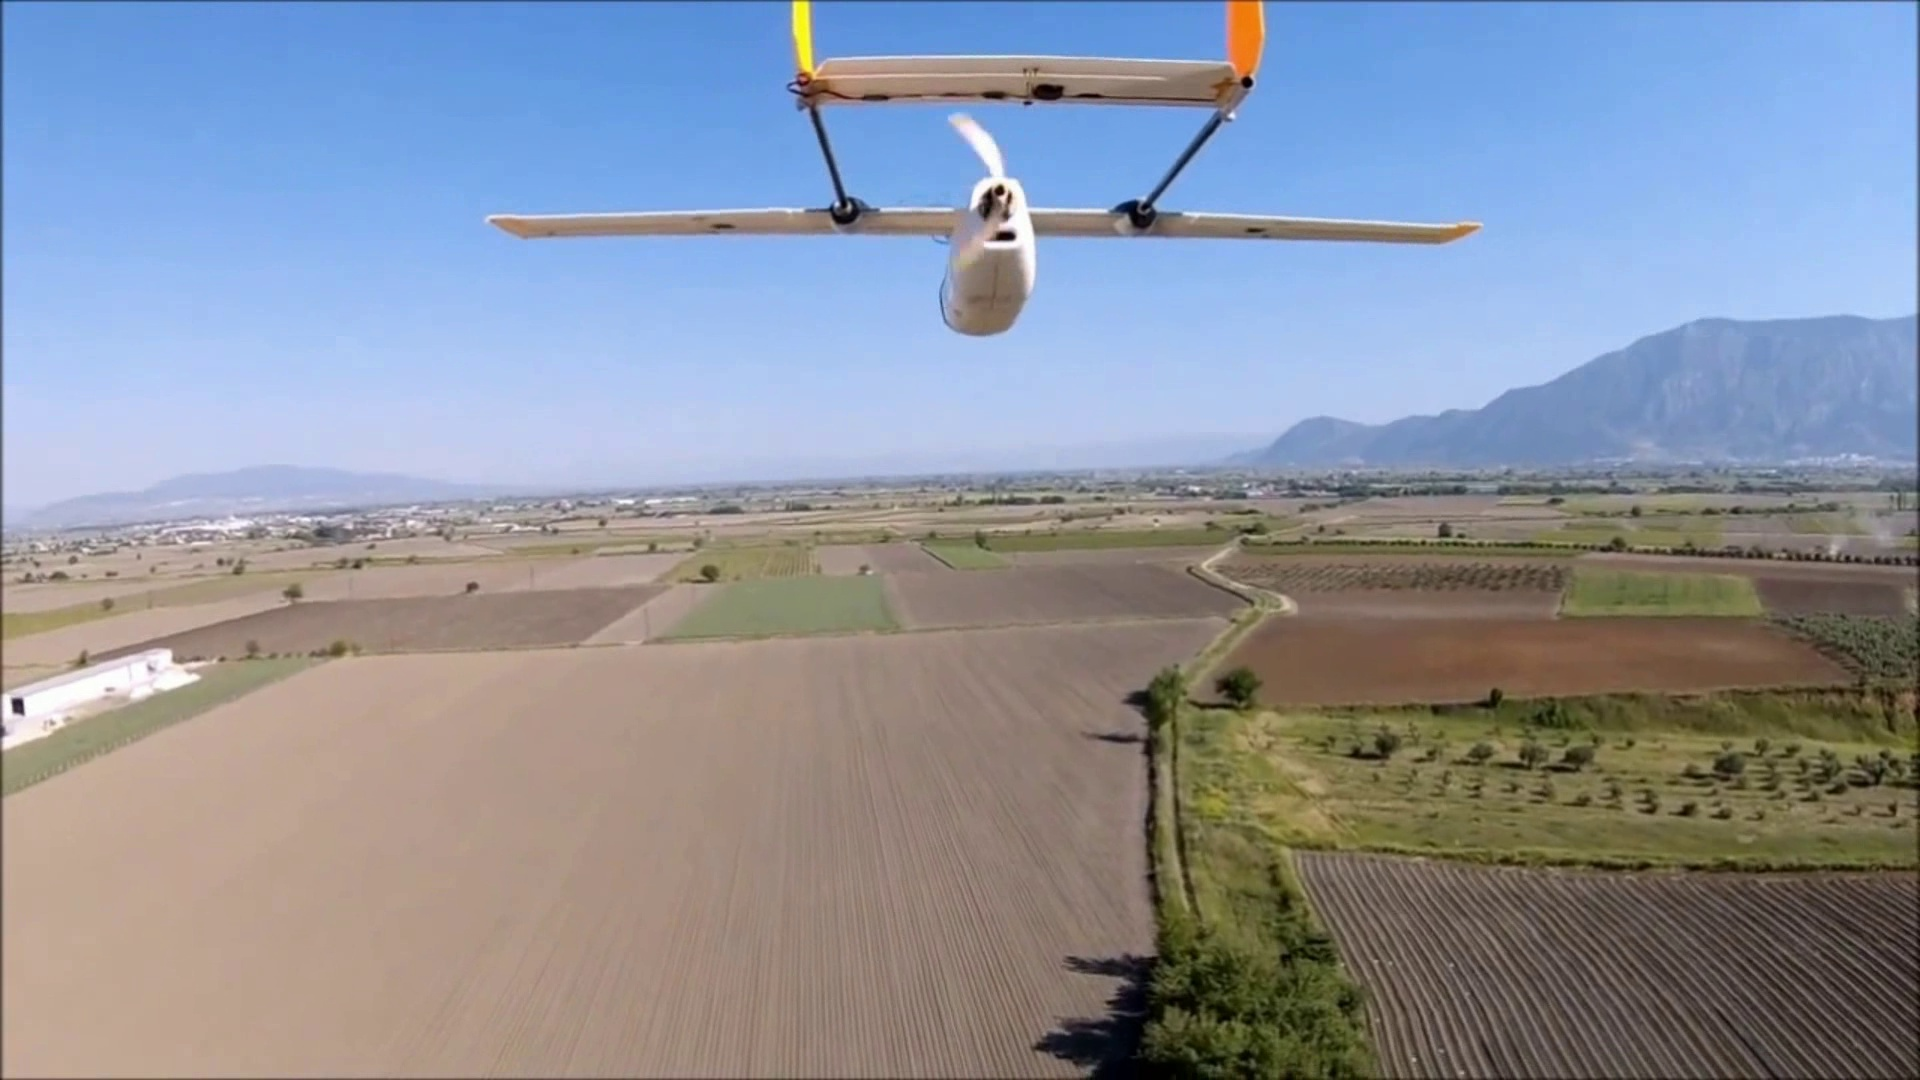airplane: (487, 3, 1480, 338)
